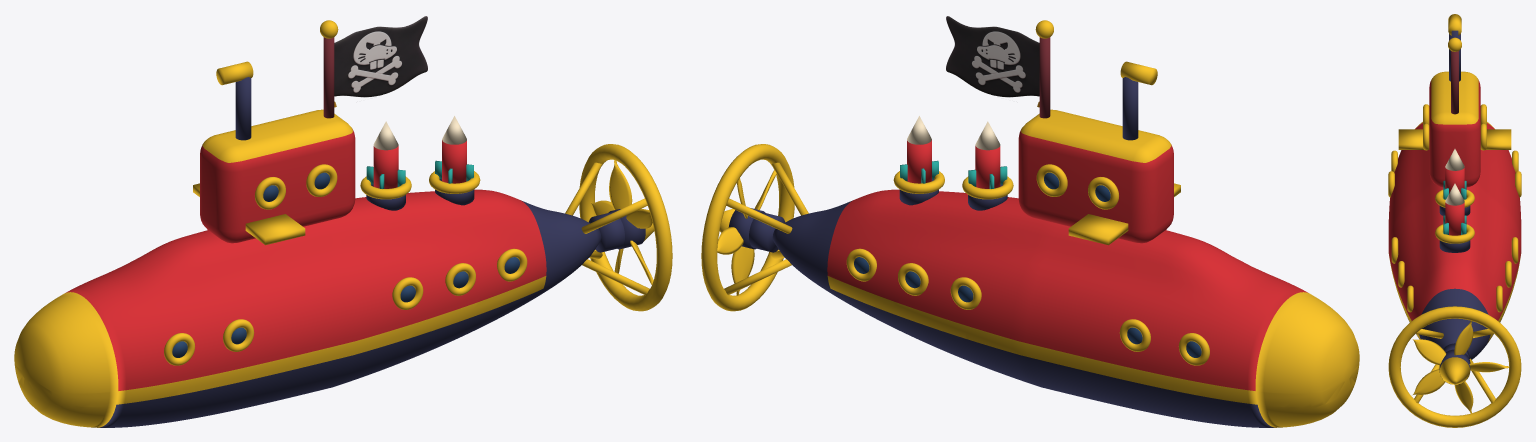
File: sub-mid.glb
3 views of the same model, side by side, from view 1: azimuth 30°, elevation 25°; view 2: azimuth 150°, elevation 25°; view 3: azimuth 270°, elevation 25° (orthographic). The views are drawn at different scales.
Parts seen in each view (by area): view 1: hull, Grid, Cylinder.021, Cylinder.017, Cylinder.019; view 2: hull, Grid, Cylinder.021, Cylinder.017, Cylinder.019; view 3: hull, Cylinder.021, Cylinder.019, Cylinder.017.
Part boxes in pixels (x1,y1,x2,y2): hull: (14, 20, 672, 427); Grid: (334, 16, 427, 107); Cylinder.021: (590, 160, 654, 284); Cylinder.017: (366, 121, 405, 188); Cylinder.019: (435, 116, 473, 183); hull: (701, 20, 1359, 427); Grid: (946, 16, 1039, 107); Cylinder.021: (717, 170, 776, 295); Cylinder.017: (968, 121, 1007, 188); Cylinder.019: (900, 116, 938, 183); hull: (1388, 14, 1521, 427); Cylinder.021: (1412, 321, 1509, 413); Cylinder.019: (1443, 183, 1466, 235); Cylinder.017: (1443, 149, 1466, 199).
Bounding box in the file's own units: 1.12 × 0.597 × 0.2606.
Materials: 5 (5 with a texture image).
